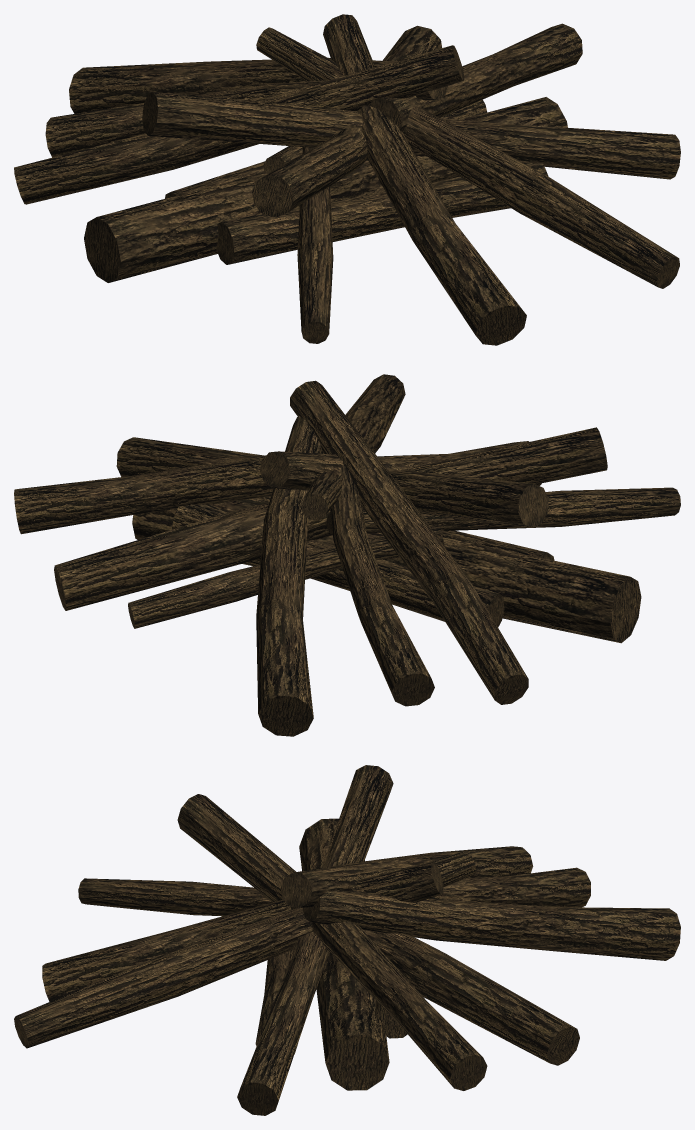
File: campFire_base.fbx
3 views of the same model, one above another, from view 1: azimuth 30°, elevation 25°; view 2: azimuth 150°, elevation 25°; view 3: azimuth 270°, elevation 25° (orthographic). The views are drawn at different scales.
Parts seen in each view (by area): view 1: campfire_mesh; view 2: campfire_mesh; view 3: campfire_mesh.
Part boxes in pixels (left/top/right/bottom): campfire_mesh: left=14, top=14, right=680, bottom=345; campfire_mesh: left=14, top=374, right=680, bottom=736; campfire_mesh: left=14, top=765, right=680, bottom=1115.
Bounding box in the file's own units: 49.58 × 16.19 × 55.6.
1 material, 1 textured.
